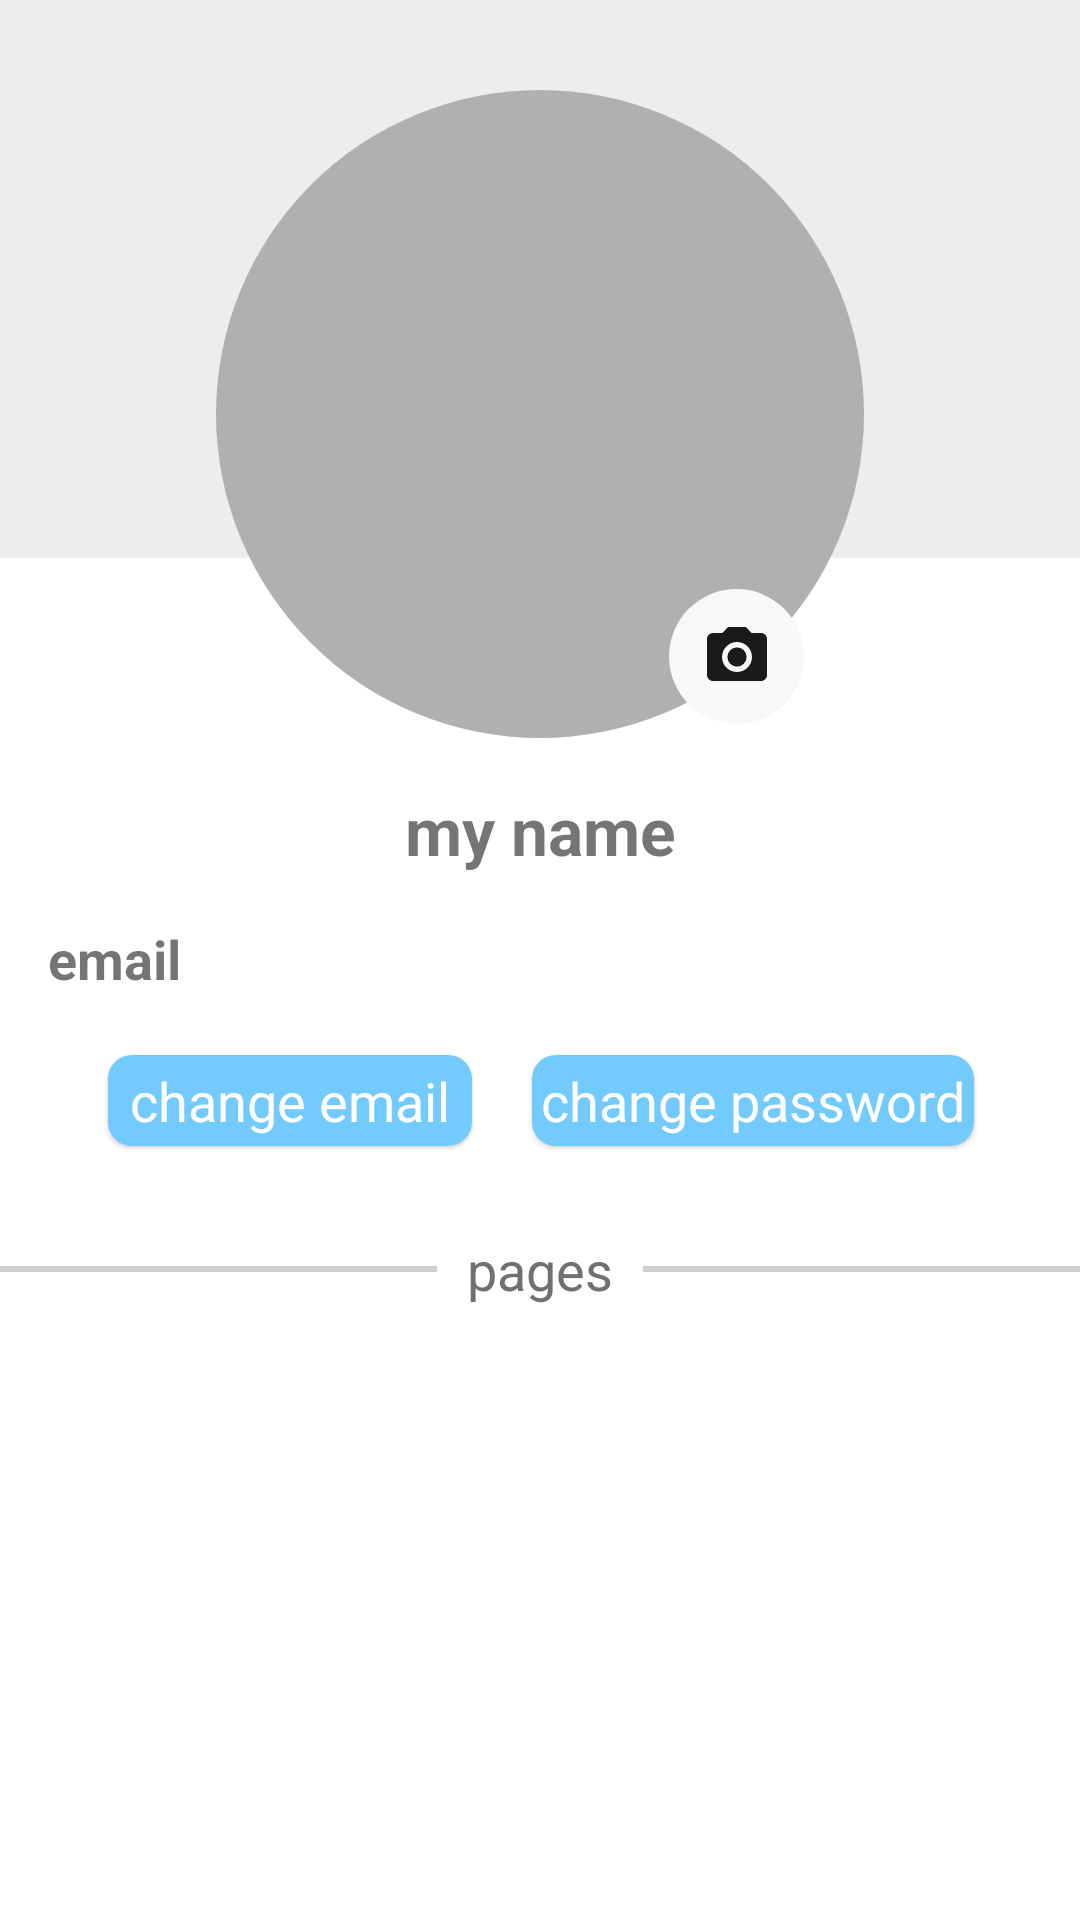

Point at icon controls on the screen. Image size 1080w x 1920h, points as (x,y).
camera: (736,656)
